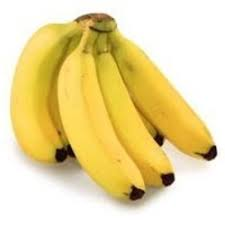looks_good: (16, 1, 222, 221)
